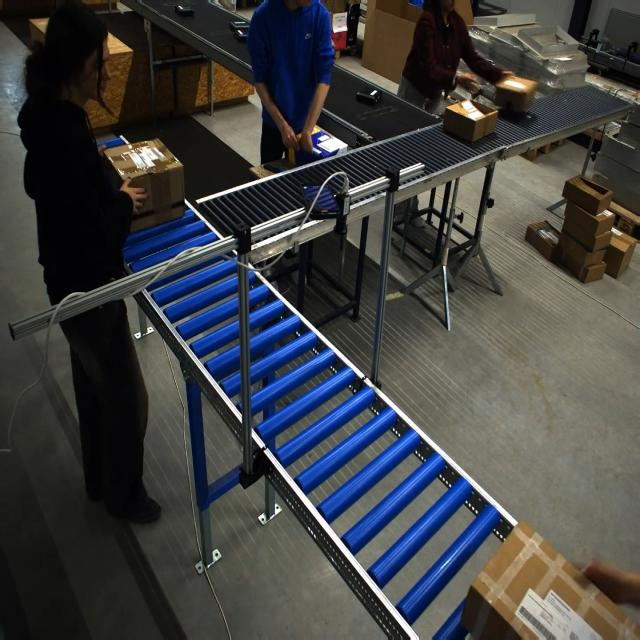box: (459, 519, 640, 638), (102, 138, 184, 231), (442, 97, 497, 142), (295, 128, 343, 164), (492, 75, 536, 111)
product: (229, 21, 249, 42), (355, 89, 381, 105), (174, 5, 194, 17)
